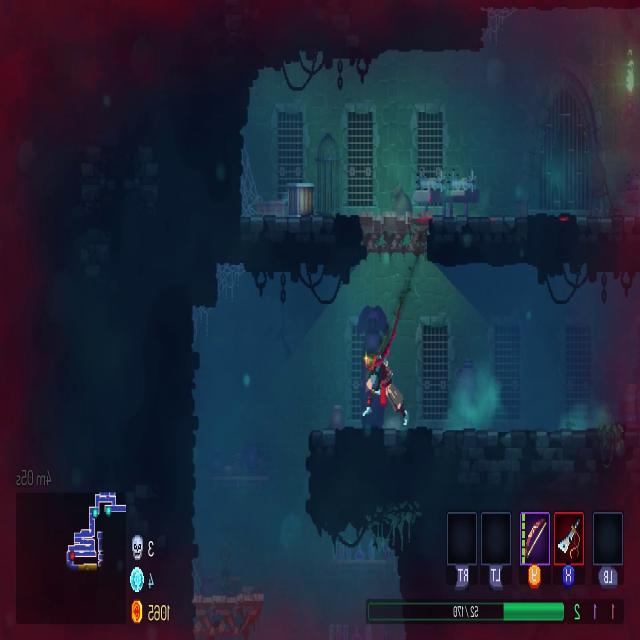agents: (358, 352, 402, 421)
wood_floor: (194, 581, 265, 640), (362, 205, 432, 258)
